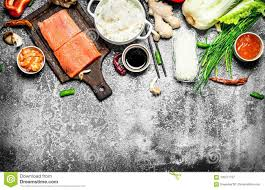Lettuce: (203, 31, 231, 64)
